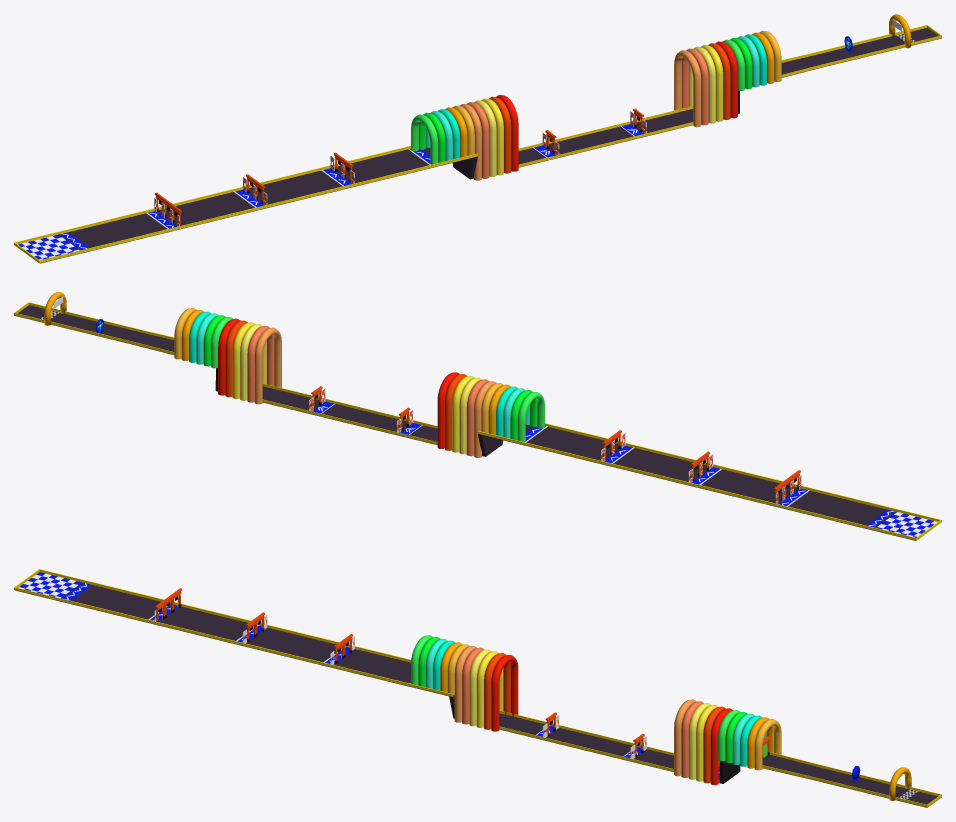
File: Run01.fbx
3 views of the same model, one above another, from view 1: azimuth 30°, elevation 25°; view 2: azimuth 150°, elevation 25°; view 3: azimuth 330°, elevation 25° (orthographic).
Parts seen in each view (by area): view 1: StreetPlane.007, Torus.002, Torus.001, StreetPlane.001, Wall.022, Wall.021, StreetPlane.006, Wall.006; view 2: StreetPlane.007, Torus.002, Torus.001, StreetPlane.001, Wall.021, Wall.022, StreetPlane.006, Wall.005, Wall.006; view 3: StreetPlane.007, Torus.001, Torus.002, StreetPlane.001, Wall.022, Wall.021, StreetPlane.006, StreetPlane.004, Wall.006, Wall.005.
Boxes of the visible parts, x1,y1,x2,y2 form: StreetPlane.007: [18, 147, 477, 263]; Torus.002: [674, 30, 781, 127]; Torus.001: [411, 95, 518, 180]; StreetPlane.001: [518, 109, 693, 167]; Wall.022: [40, 153, 477, 262]; Wall.021: [15, 145, 410, 244]; StreetPlane.006: [809, 35, 904, 67]; Wall.006: [518, 122, 693, 166]; StreetPlane.007: [478, 425, 937, 540]; Torus.002: [174, 308, 281, 404]; Torus.001: [437, 372, 544, 457]; StreetPlane.001: [262, 386, 437, 444]; Wall.021: [478, 431, 915, 540]; Wall.022: [545, 423, 940, 521]; StreetPlane.006: [51, 312, 146, 344]; Wall.005: [262, 399, 437, 444]; Wall.006: [262, 383, 437, 428]; StreetPlane.007: [15, 572, 454, 697]; Torus.001: [411, 635, 518, 731]; Torus.002: [674, 699, 781, 785]; StreetPlane.001: [499, 713, 719, 783]; Wall.022: [15, 587, 453, 696]; Wall.021: [39, 569, 411, 662]; StreetPlane.006: [808, 768, 909, 798]; StreetPlane.004: [762, 754, 821, 778]; Wall.006: [499, 726, 719, 782]; Wall.005: [499, 710, 719, 766].
Bounding box in the file's own units: 498 × 34.85 × 24.06.
